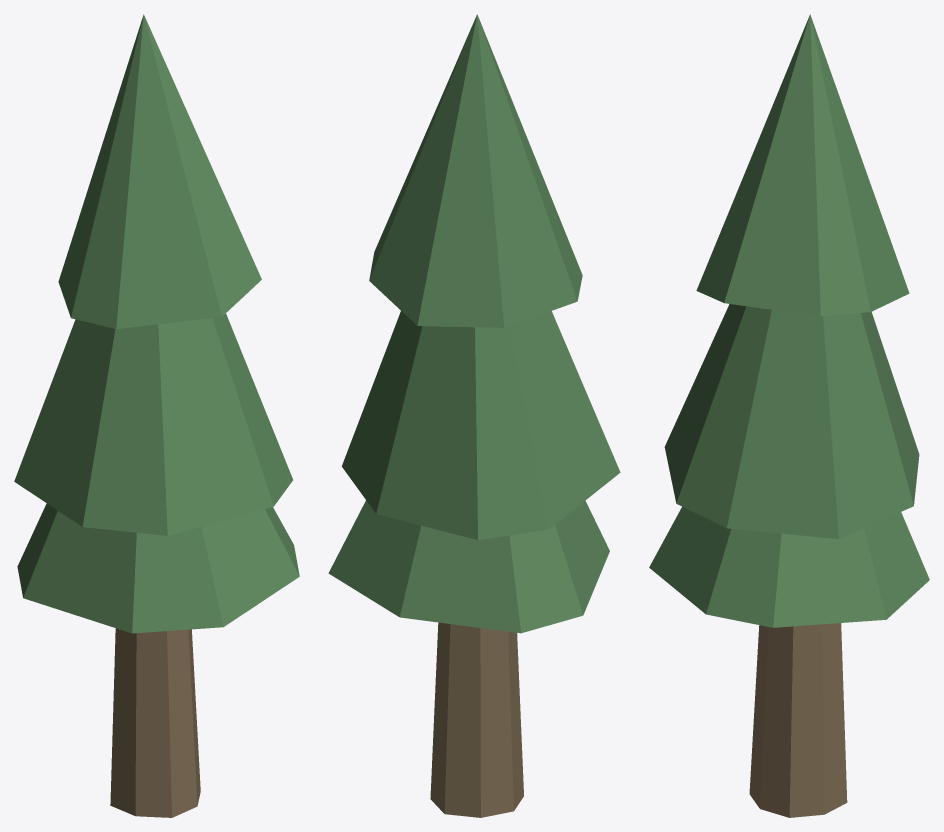
File: Tree2.019.fbx
The picture shows the model from 3 angles, left to right: view 1: azimuth 30°, elevation 25°; view 2: azimuth 150°, elevation 25°; view 3: azimuth 270°, elevation 25°; orthographic projection.
Visible parts, largest first — view 1: Tree2.019; view 2: Tree2.019; view 3: Tree2.019.
Part boxes in pixels (x1,y1,x2,y2): Tree2.019: [14, 14, 299, 817]; Tree2.019: [328, 14, 620, 817]; Tree2.019: [649, 14, 929, 817].
Size of the model in its own units: 94.06 by 287 by 93.56.
